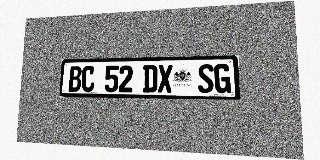2: (119, 65, 133, 92)
5: (105, 65, 119, 92)
B: (68, 66, 82, 92)
C: (81, 66, 95, 92)
D: (143, 65, 157, 93)
G: (214, 64, 231, 93)
S: (198, 64, 214, 93)
X: (158, 65, 173, 93)
